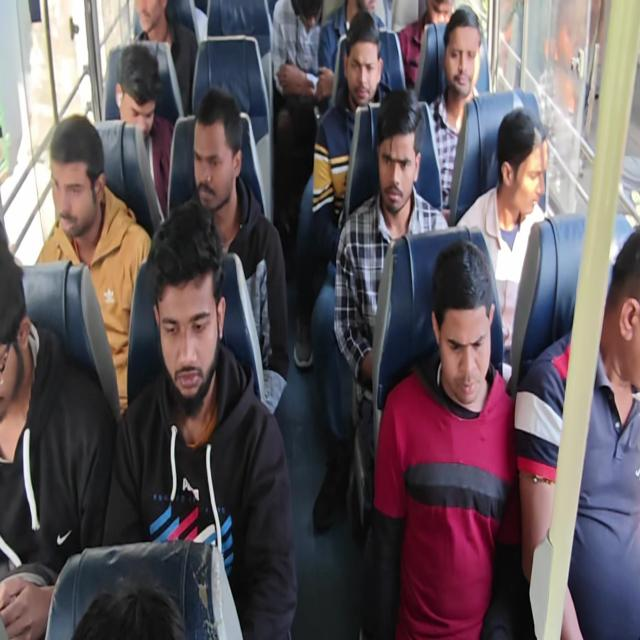person: (150, 241, 227, 404), (432, 250, 498, 410), (50, 131, 109, 230), (188, 106, 239, 214), (498, 108, 546, 212), (609, 252, 640, 394), (376, 118, 414, 220), (0, 276, 28, 406), (108, 53, 151, 130), (444, 12, 481, 95), (346, 33, 374, 100), (125, 0, 173, 34), (292, 0, 320, 43), (415, 0, 456, 28)
